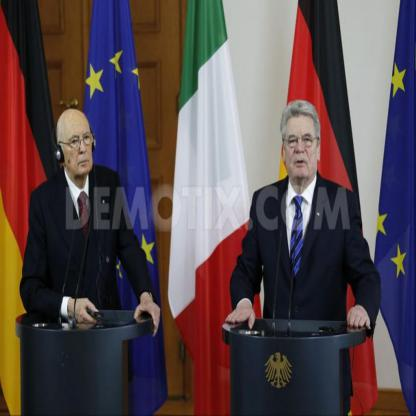face: (286, 116, 320, 183), (63, 119, 94, 176)
